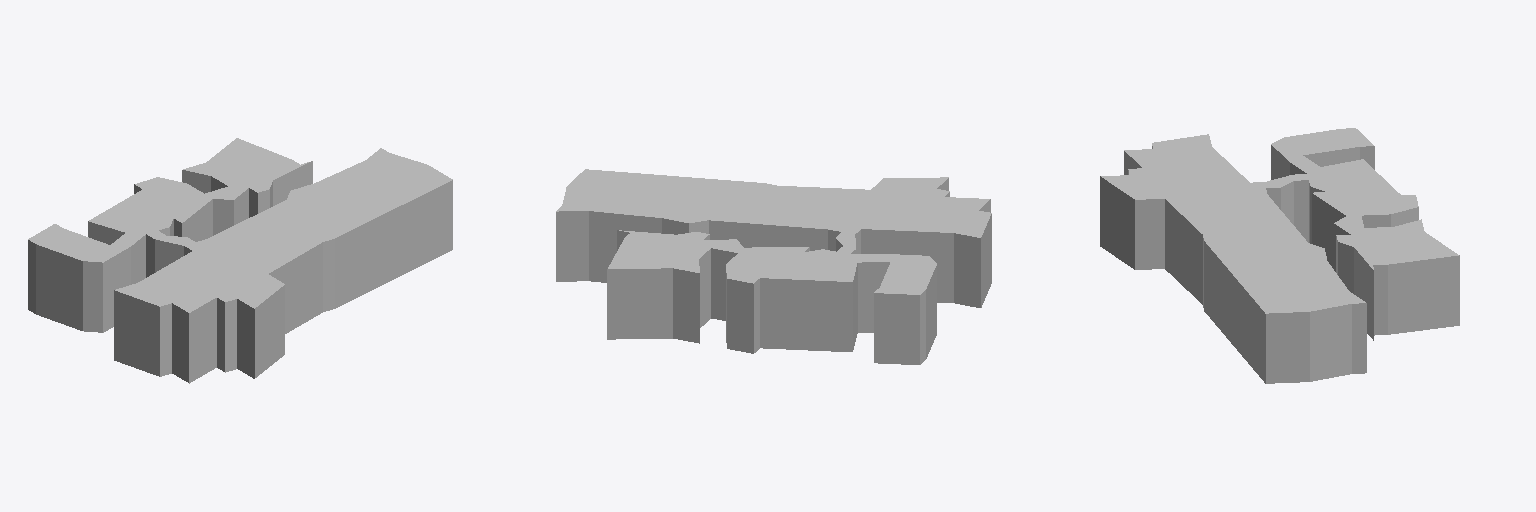
File: hospital_3.obj
The picture shows the model from 3 angles: view 1: azimuth 30°, elevation 25°; view 2: azimuth 150°, elevation 25°; view 3: azimuth 270°, elevation 25°; orthographic projection.
Parts seen in each view (by area): view 1: object_1; view 2: object_1; view 3: object_1.
Boxes of the visible parts, <box> form: object_1: <box>28,138,452,383</box>; object_1: <box>556,169,991,364</box>; object_1: <box>1100,128,1459,383</box>.
Size of the model in its own units: 413 by 73 by 338.